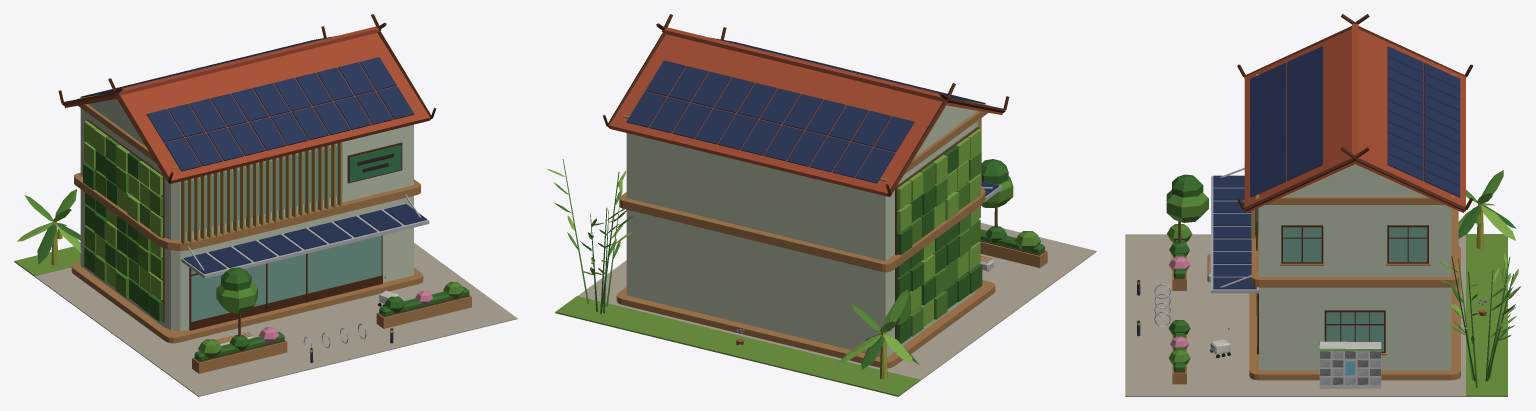
The model's file is shop_2.glb.
3 views of the same model, side by side, from view 1: azimuth 30°, elevation 25°; view 2: azimuth 150°, elevation 25°; view 3: azimuth 270°, elevation 25° (orthographic). The views are drawn at different scales.
Visible parts, largest first — view 1: body; view 2: body; view 3: body.
Part boxes in pixels (x1,y1,x2,y2): body: (14,14,517,396); body: (546,14,1096,396); body: (1125,14,1520,396).
Bounding box in the file's own units: 17.27 × 11.01 × 16.46.
